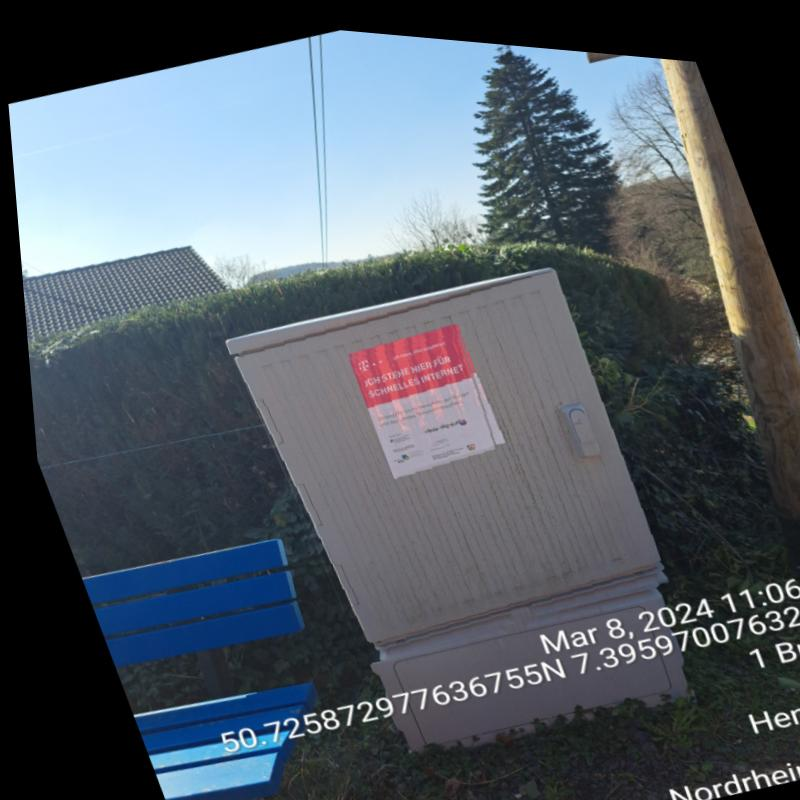NT-Gehause: (214, 233, 683, 687)
Steaker: (345, 325, 493, 472)
